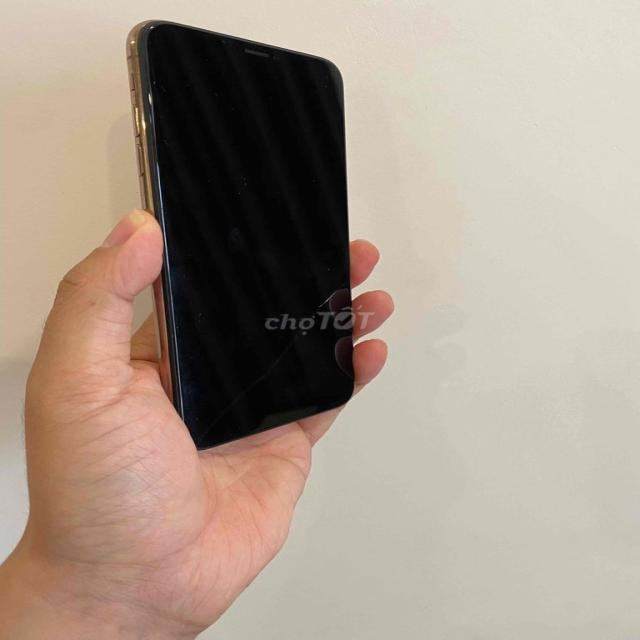gen_x_xs: (108, 14, 382, 452)
scratch: (140, 75, 170, 98), (211, 32, 244, 52), (154, 126, 174, 146), (195, 310, 208, 337)
